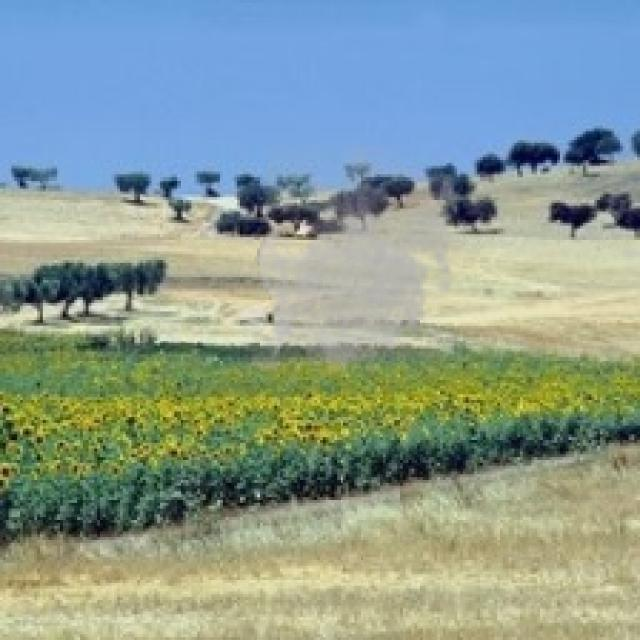Smoke: (251, 146, 466, 380)
